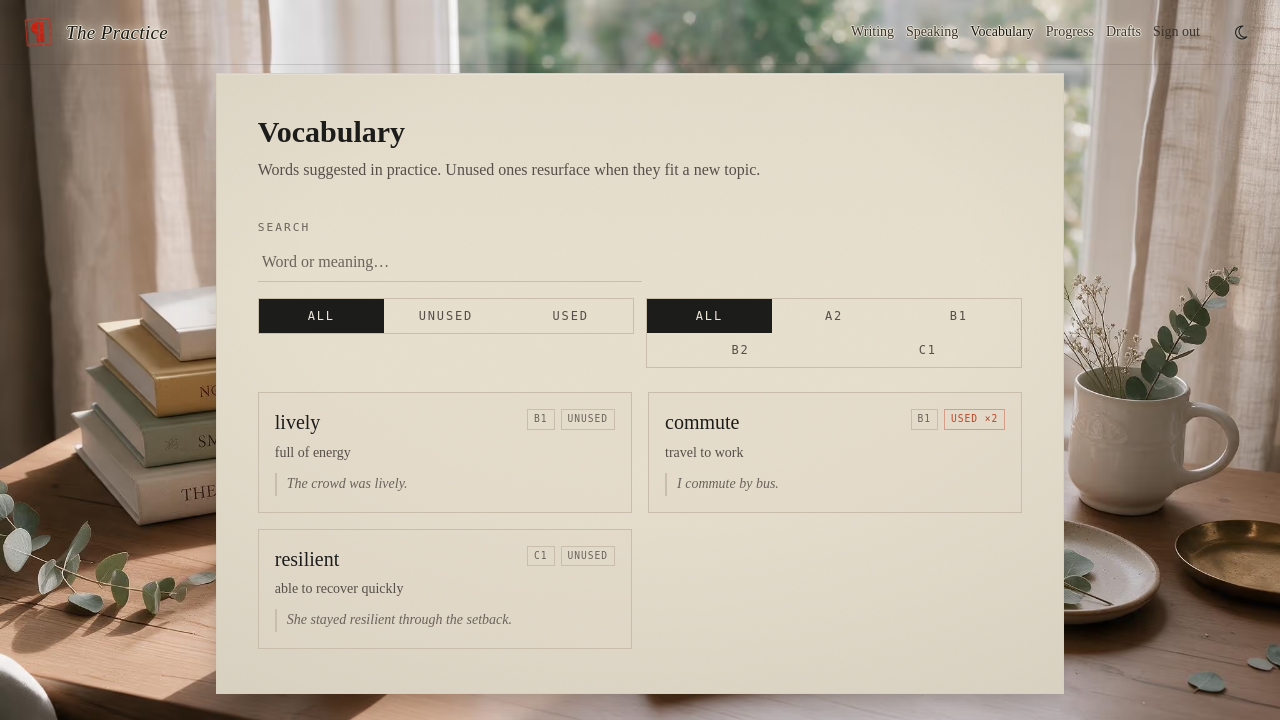
Test case: VocabPage › filters by level
Expected: the heading "lively" is shown, [275,409,320,437]
Click the button "C1" at (928, 350), box [834,333,1021,367]
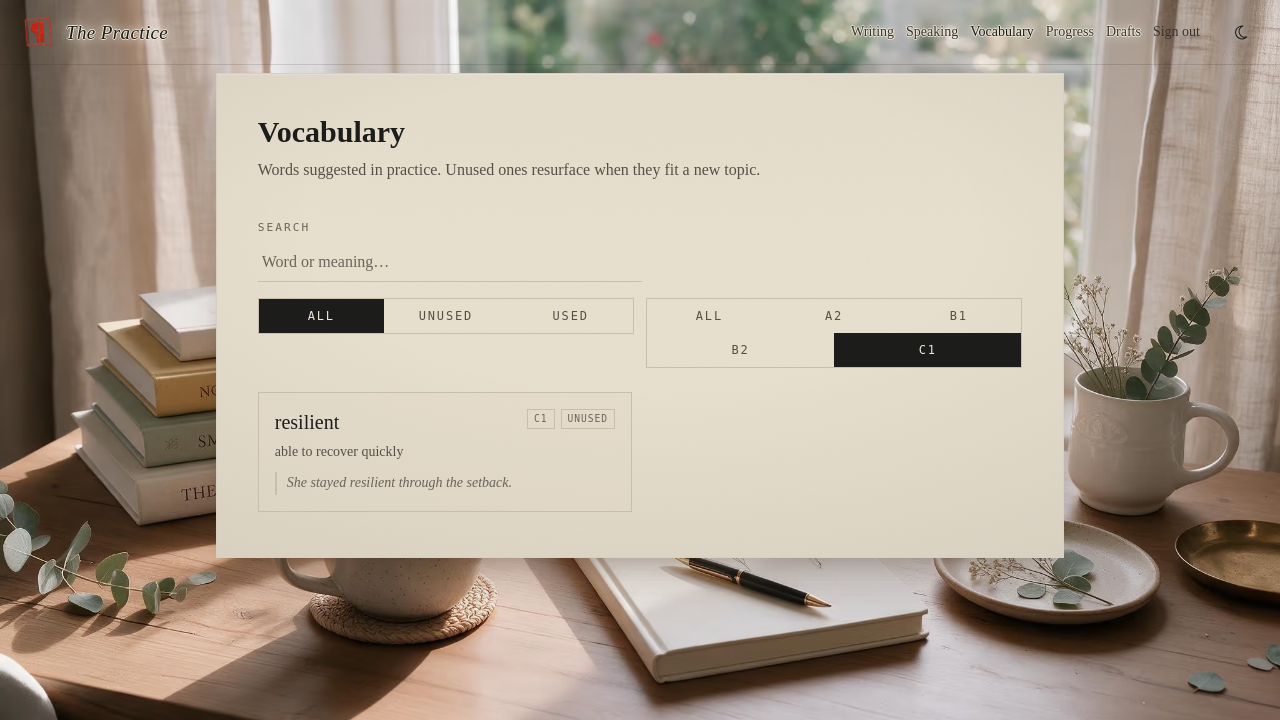
Expected: the heading "resilient" is shown, [275,409,339,437]
Expected: the heading "lively" is gone
Expected: the heading "commute" is gone
